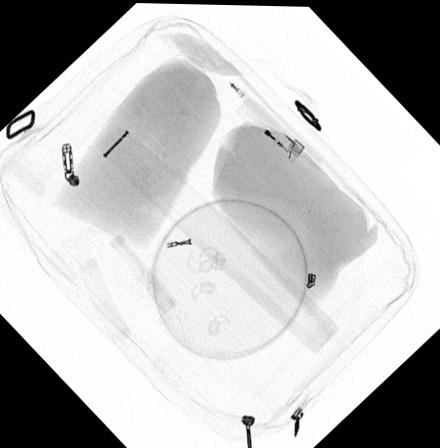Lighter: (234, 95, 304, 162)
